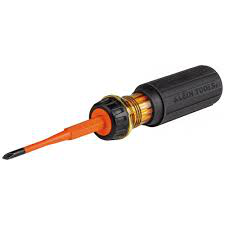screwdriver: (1, 67, 225, 168)
